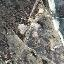Purslane: (0, 0, 31, 64)
